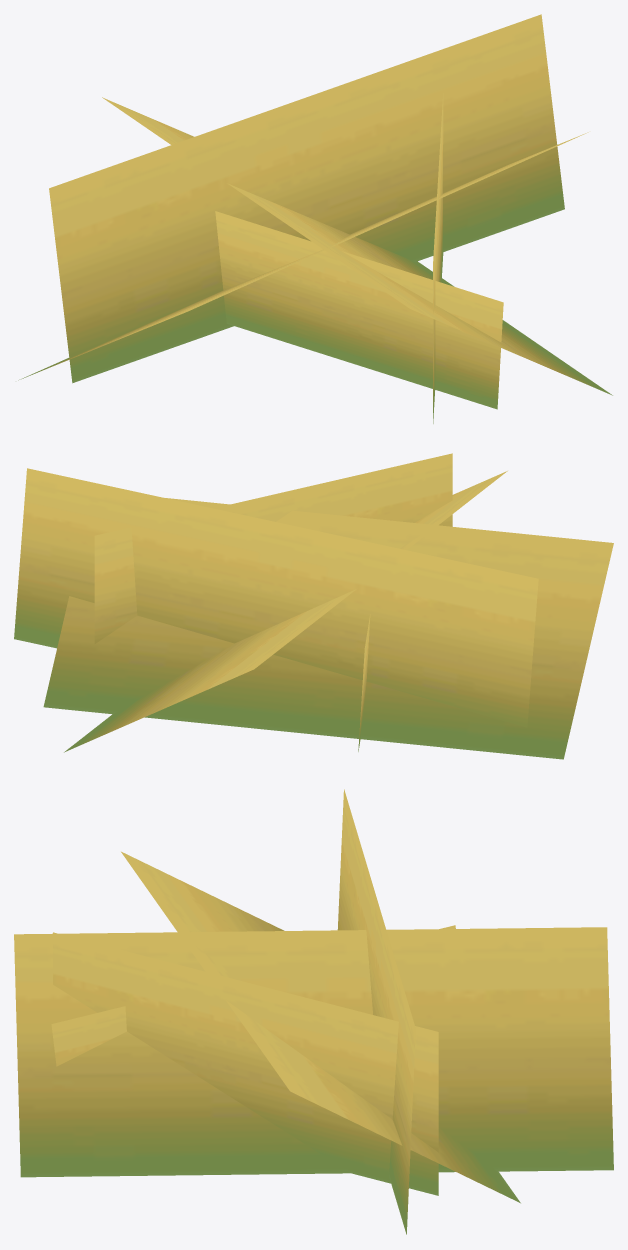
The model's file is V_Grass11.fbx.
3 views of the same model, one above another, from view 1: azimuth 30°, elevation 25°; view 2: azimuth 150°, elevation 25°; view 3: azimuth 270°, elevation 25° (orthographic). The views are drawn at different scales.
Parts seen in each view (by area): view 1: TW101_grass02; view 2: TW101_grass02; view 3: TW101_grass02.
Boxes of the visible parts, x1=… form: TW101_grass02: x1=18, y1=14, x2=612, y2=423; TW101_grass02: x1=14, y1=453, x2=613, y2=759; TW101_grass02: x1=14, y1=789, x2=613, y2=1234.
Bounding box in the file's own units: 0.5653 × 0.2011 × 0.5044.
